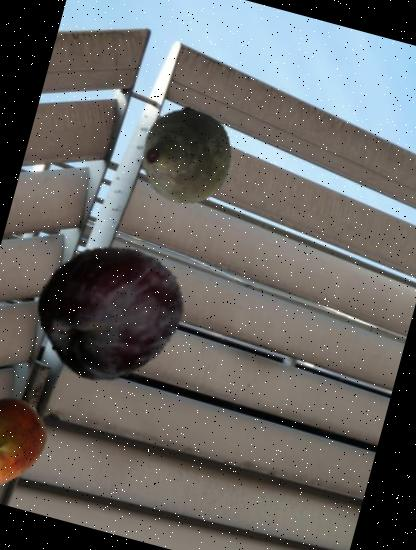Beetroot: (124, 94, 249, 218)
Mango: (0, 382, 61, 506)
Plum: (23, 220, 202, 399)
